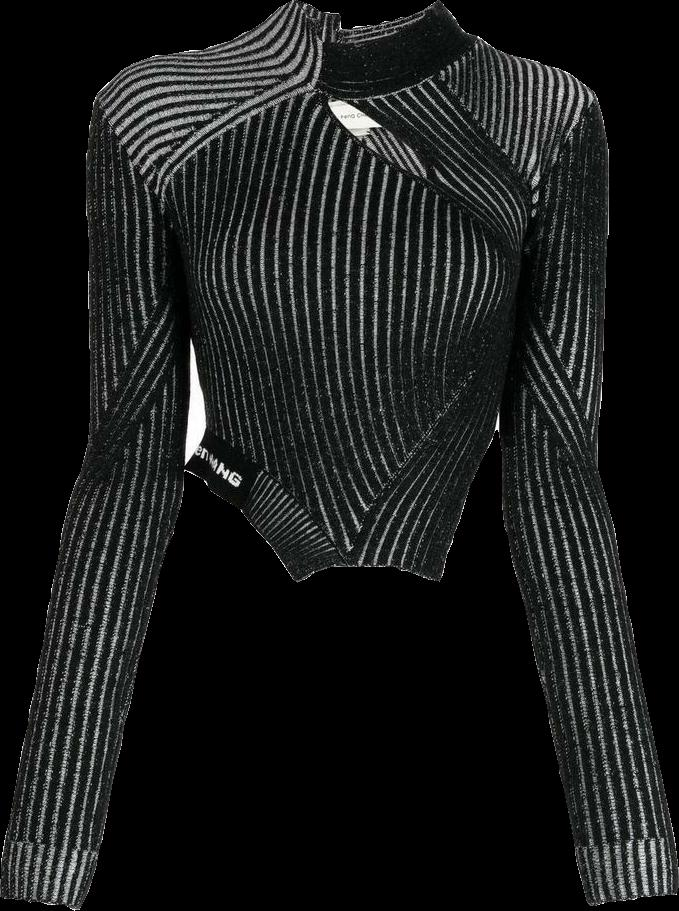Bodice: (94, 0, 596, 581)
Neckline: (279, 0, 447, 37)
Sleeve: (0, 105, 191, 910), (499, 92, 678, 905)
Sleeveline: (524, 88, 598, 247), (92, 102, 168, 235)
Waistline: (179, 411, 508, 587)
